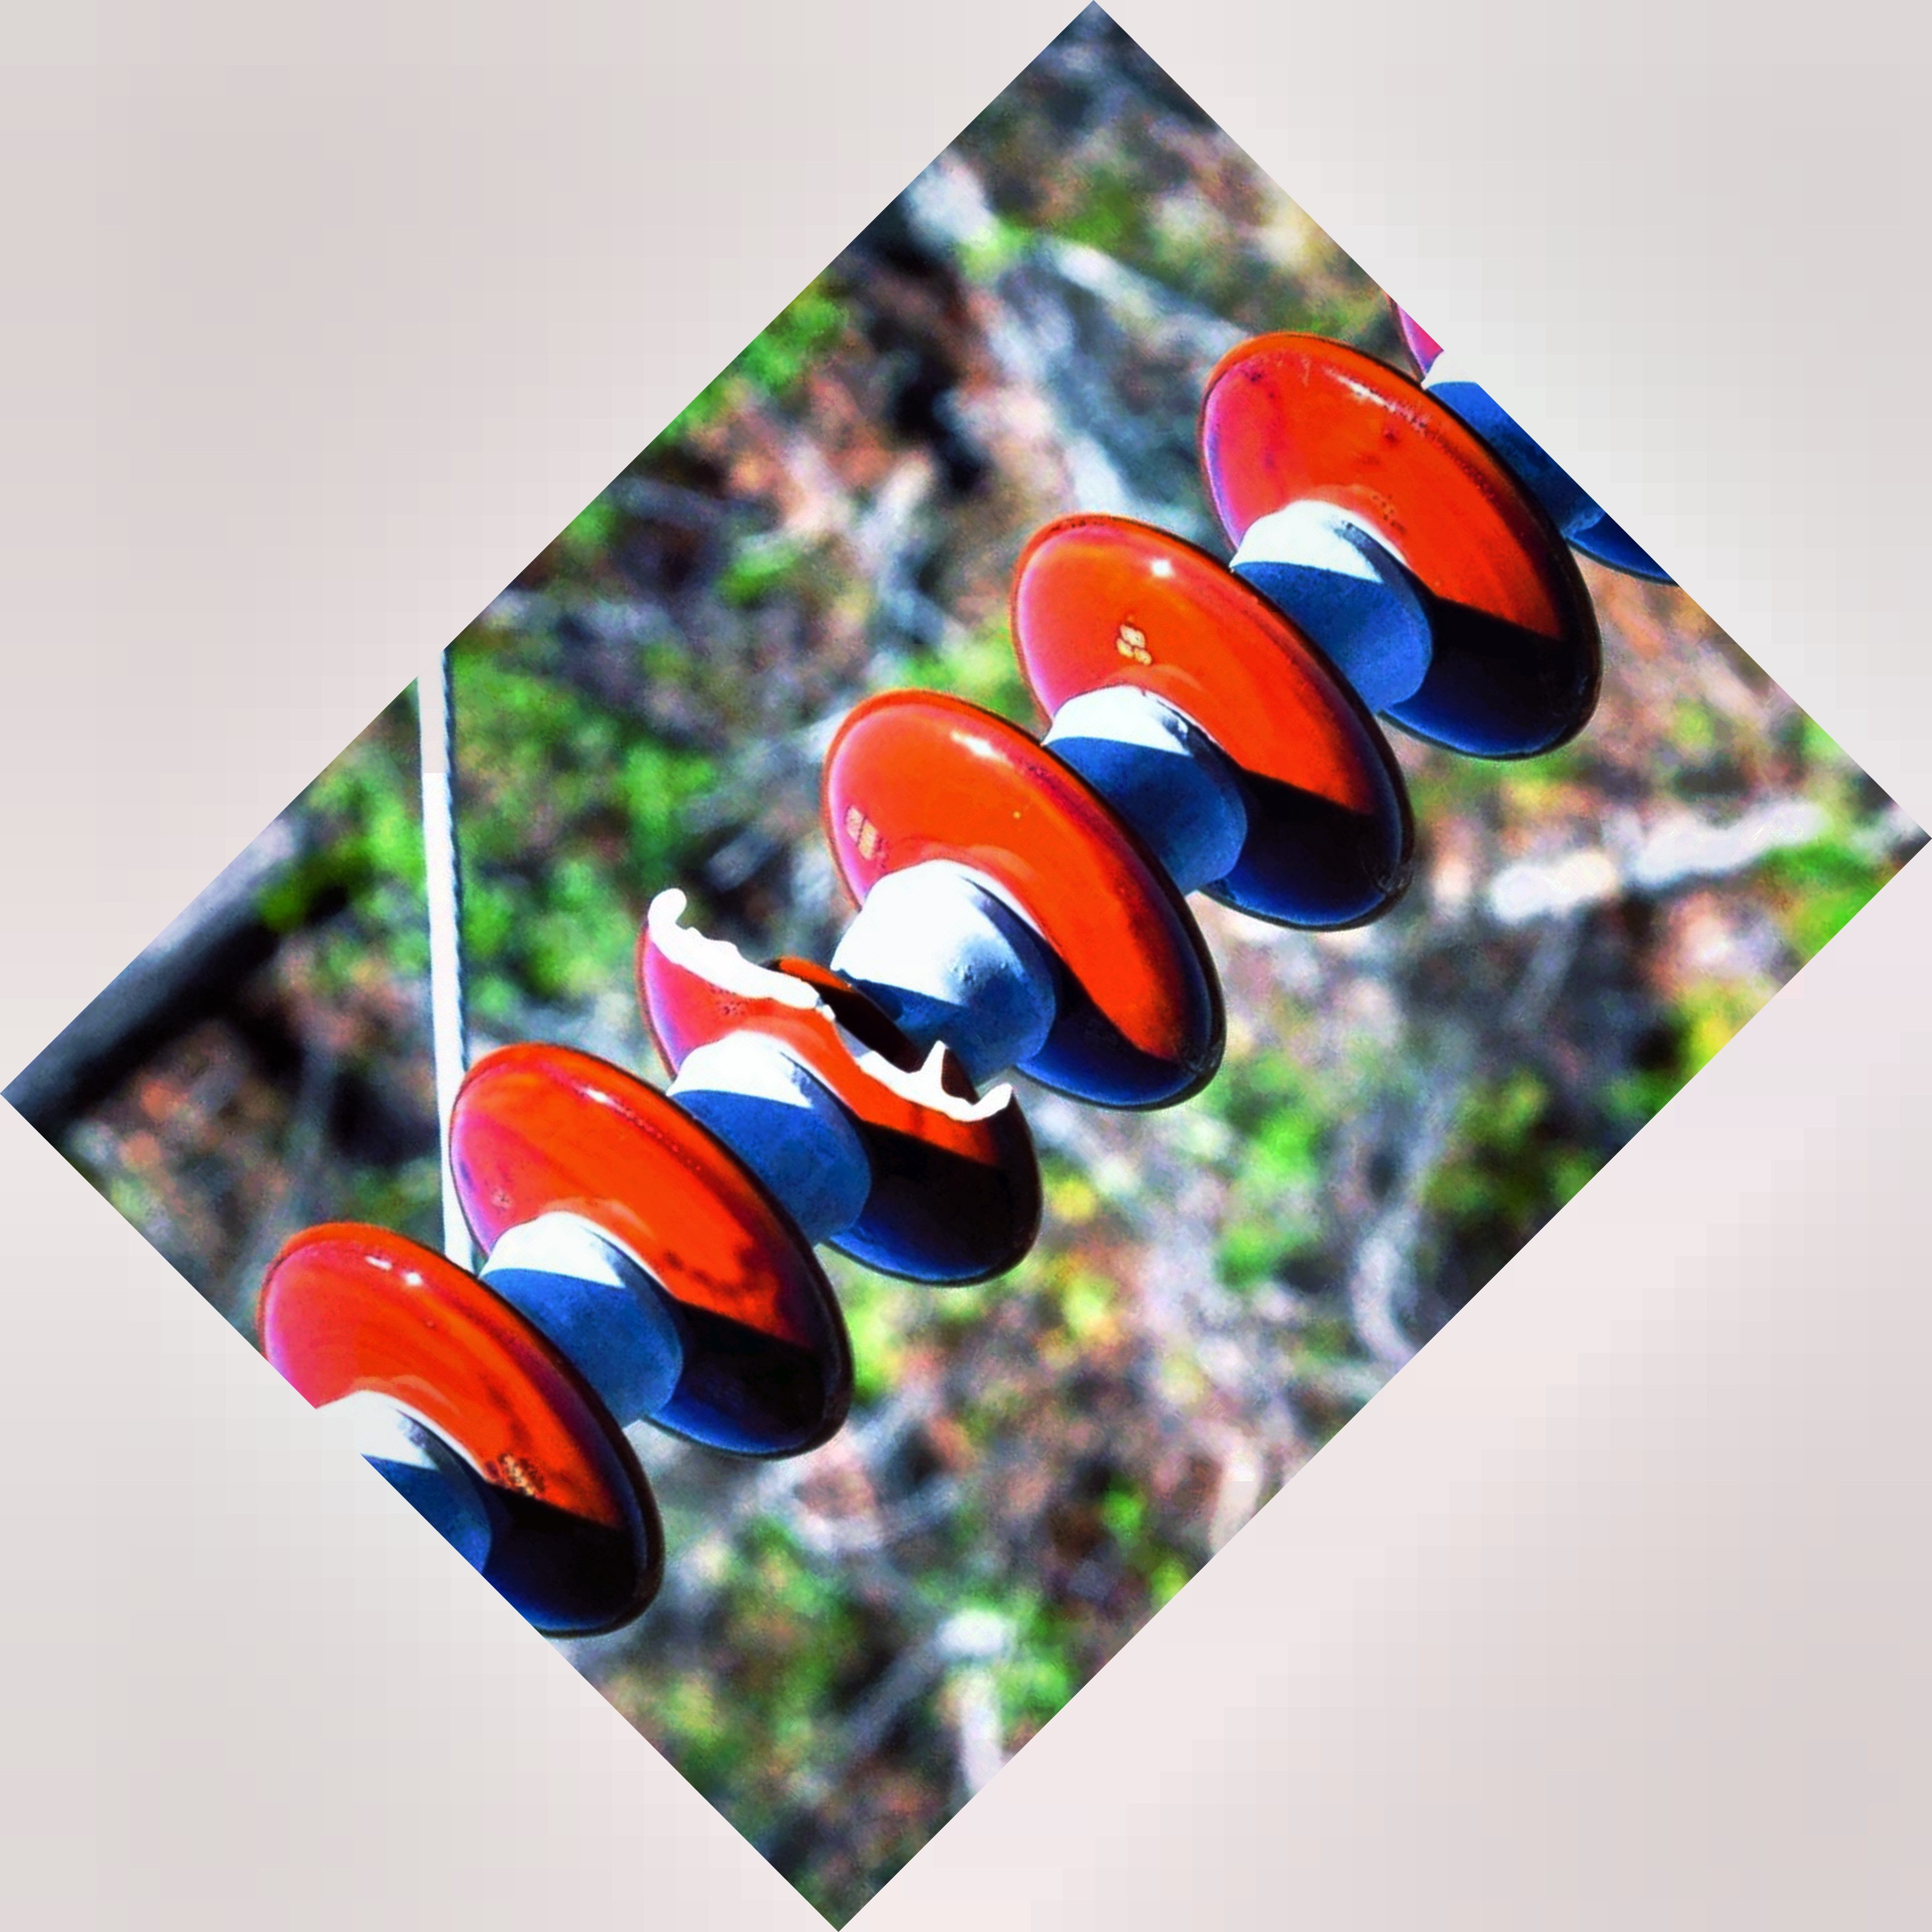insulator breakage: (625, 878, 1077, 1309)
